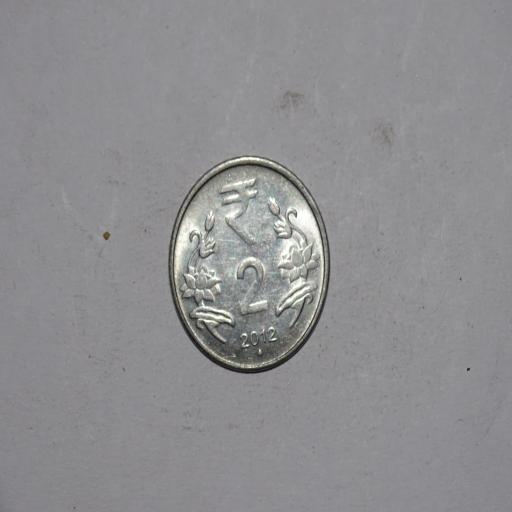rupee2: (162, 156, 330, 375)
